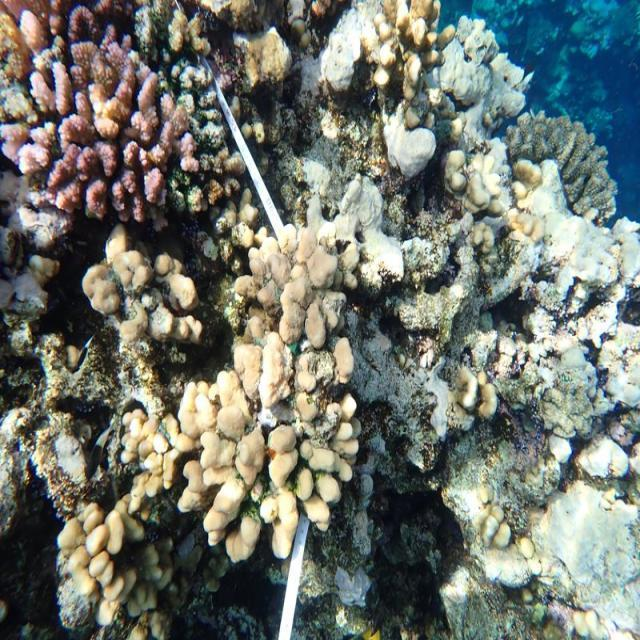Bleached Coral: (522, 172, 639, 320), (529, 477, 640, 632), (304, 149, 440, 273), (0, 163, 72, 315), (305, 0, 386, 115), (319, 548, 397, 626), (368, 100, 440, 182), (41, 420, 94, 483)
Healthy Coral: (38, 20, 229, 229)
